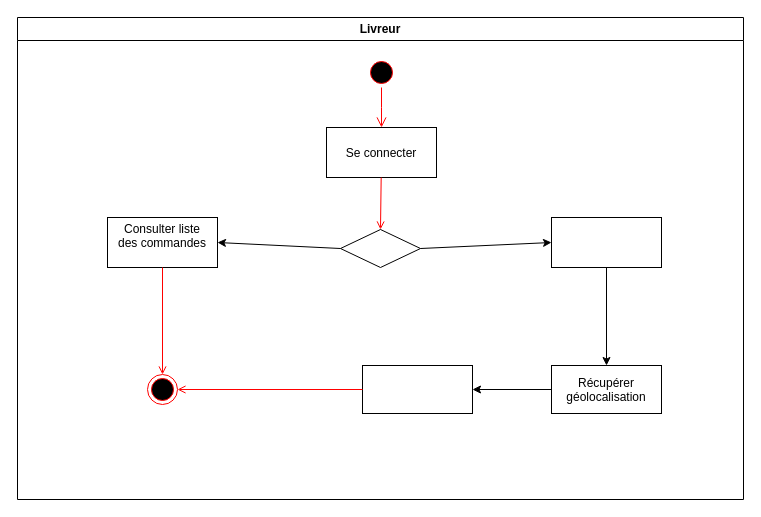
Image size: 761x517. Some labels were removed from this diagram. Each missing label, with the centre of its shape:
"Mettre à jour état commande" goes at point (417, 389).
"Sélectionner commande" goes at point (606, 242).
